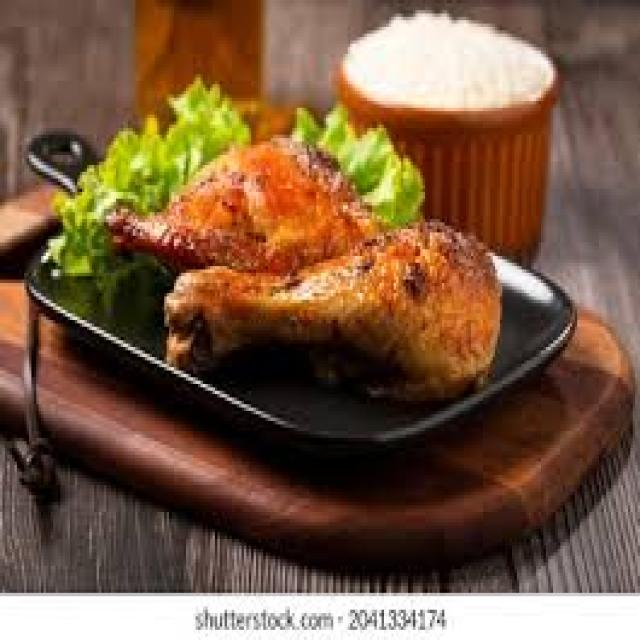Frango: (92, 145, 510, 401)
